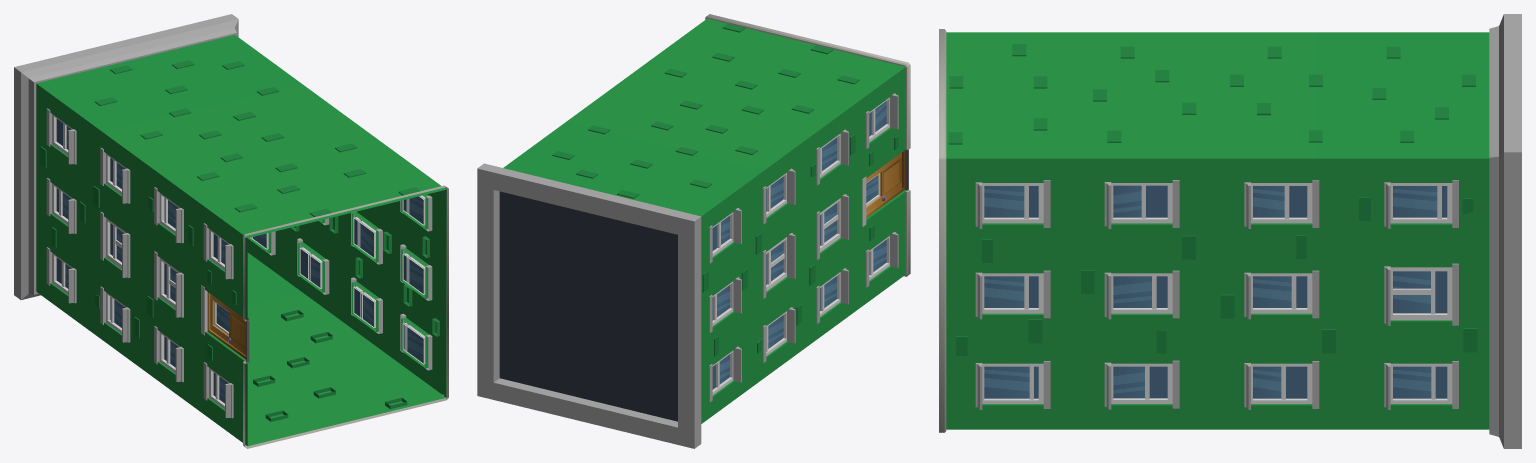
Rendered from Building_2_5_F.fbx.
3 views of the same model, side by side, from view 1: azimuth 30°, elevation 25°; view 2: azimuth 150°, elevation 25°; view 3: azimuth 270°, elevation 25° (orthographic). The views are drawn at different scales.
Visible parts, largest first — view 1: Building_2_5_F; view 2: Building_2_5_F; view 3: Building_2_5_F.
Part boxes in pixels (x1,y1,x2,y2): Building_2_5_F: [14, 14, 448, 448]; Building_2_5_F: [477, 14, 910, 448]; Building_2_5_F: [939, 14, 1521, 448].
Bounding box in the file's own units: 620 × 620 × 1105.
